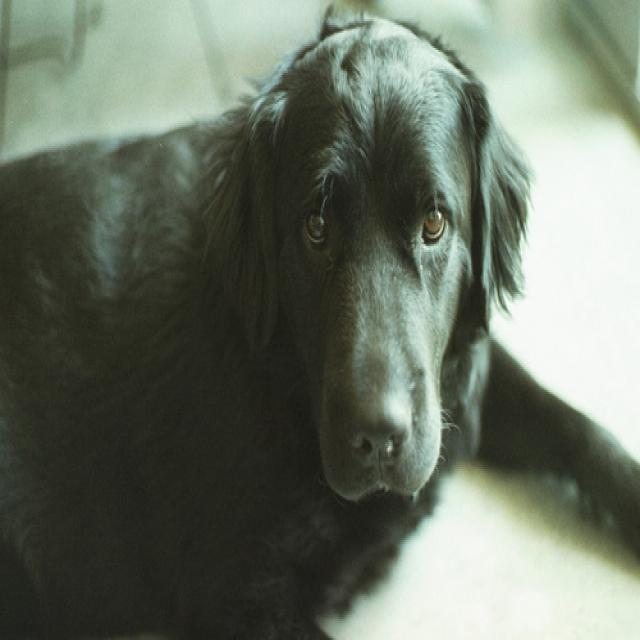dog: (201, 15, 523, 498)
